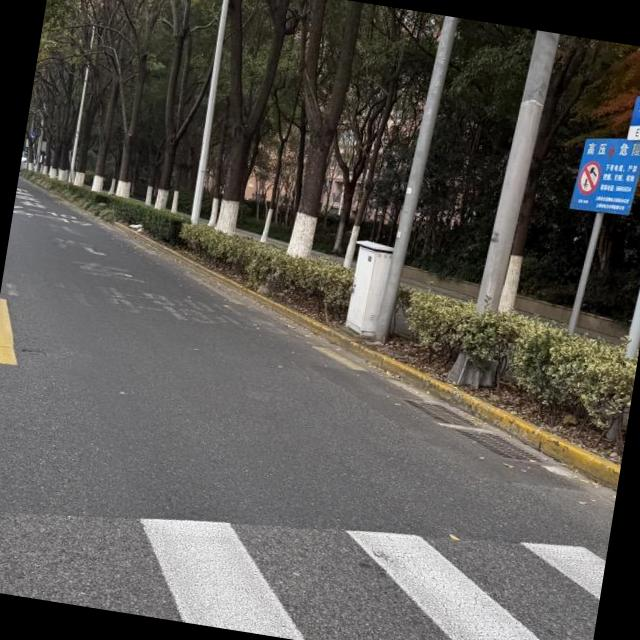curb: (23, 177, 620, 492)
